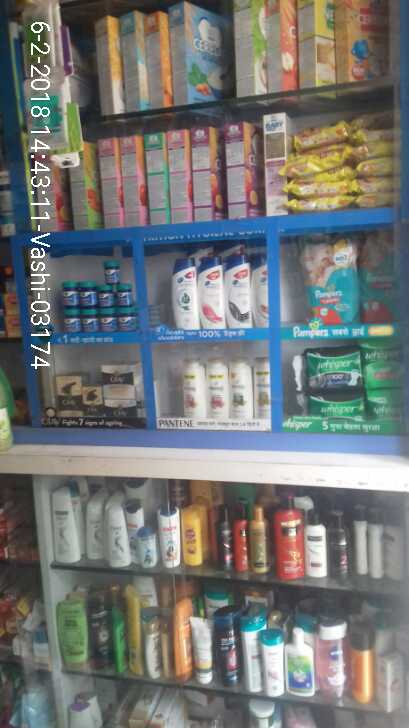beauty: (223, 254, 254, 328), (196, 257, 225, 327), (170, 258, 198, 326), (228, 354, 254, 419), (182, 356, 206, 416), (205, 356, 227, 418), (100, 363, 135, 397), (54, 376, 82, 416), (80, 384, 102, 418), (104, 397, 137, 419)
pharmacy: (297, 234, 359, 326), (303, 349, 362, 390), (359, 340, 403, 387), (306, 394, 363, 420), (364, 389, 405, 421), (59, 279, 81, 309), (59, 308, 82, 334), (116, 306, 138, 332), (79, 279, 98, 308), (98, 308, 119, 333), (102, 259, 122, 284), (96, 284, 116, 309), (116, 283, 135, 308), (81, 309, 100, 333)
